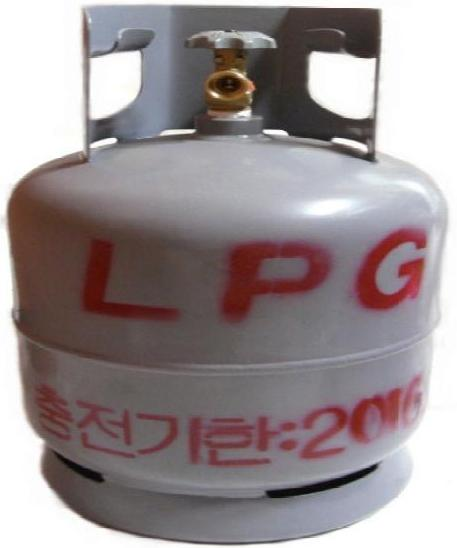cylinder: (1, 0, 457, 548)
